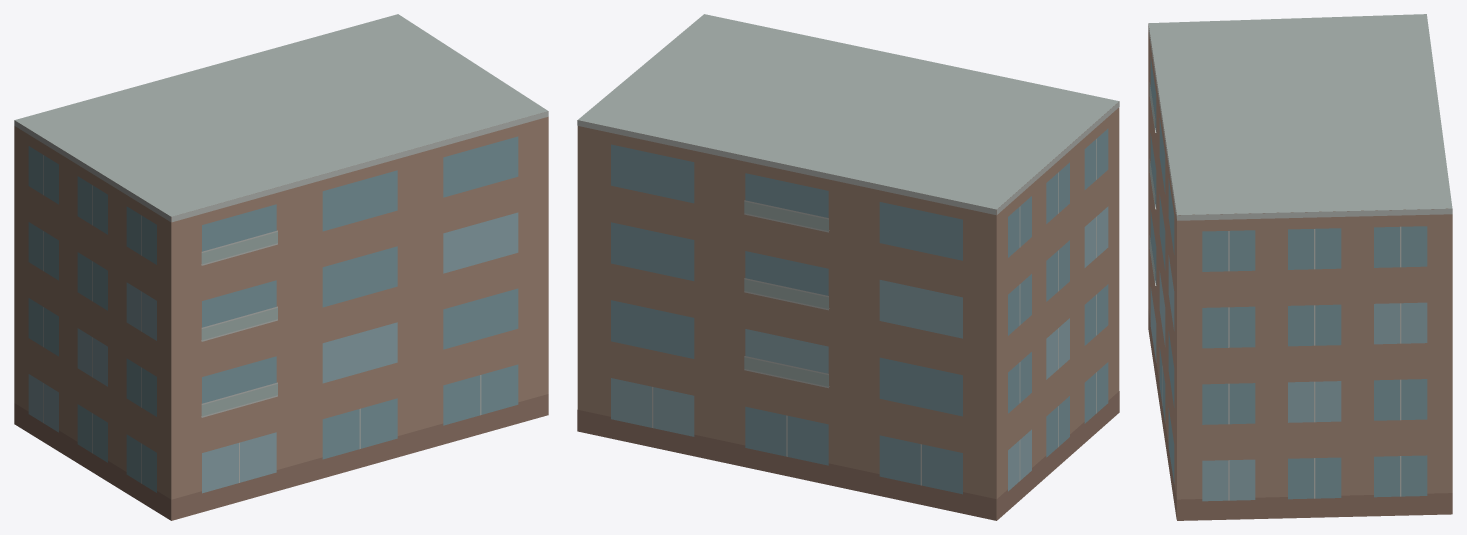
The model's file is survey-upis-32638244.glb.
3 views of the same model, side by side, from view 1: azimuth 30°, elevation 25°; view 2: azimuth 150°, elevation 25°; view 3: azimuth 270°, elevation 25° (orthographic). The views are drawn at different scales.
Parts seen in each view (by area): view 1: survey-upis-32638244.tmp; view 2: survey-upis-32638244.tmp; view 3: survey-upis-32638244.tmp.
Part boxes in pixels (x1,y1,x2,y2): survey-upis-32638244.tmp: [14, 14, 548, 520]; survey-upis-32638244.tmp: [577, 14, 1119, 520]; survey-upis-32638244.tmp: [1148, 14, 1452, 520].
Bounding box in the file's own units: 18.63 × 13.2 × 11.91.
